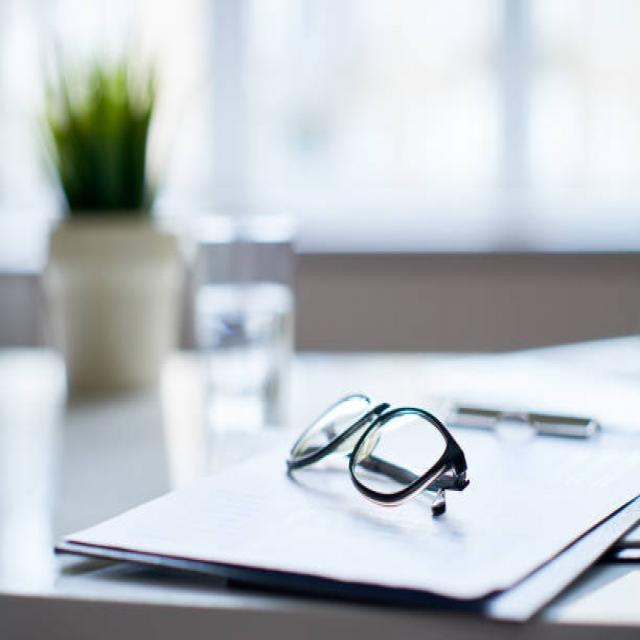glasses: (274, 354, 484, 549)
